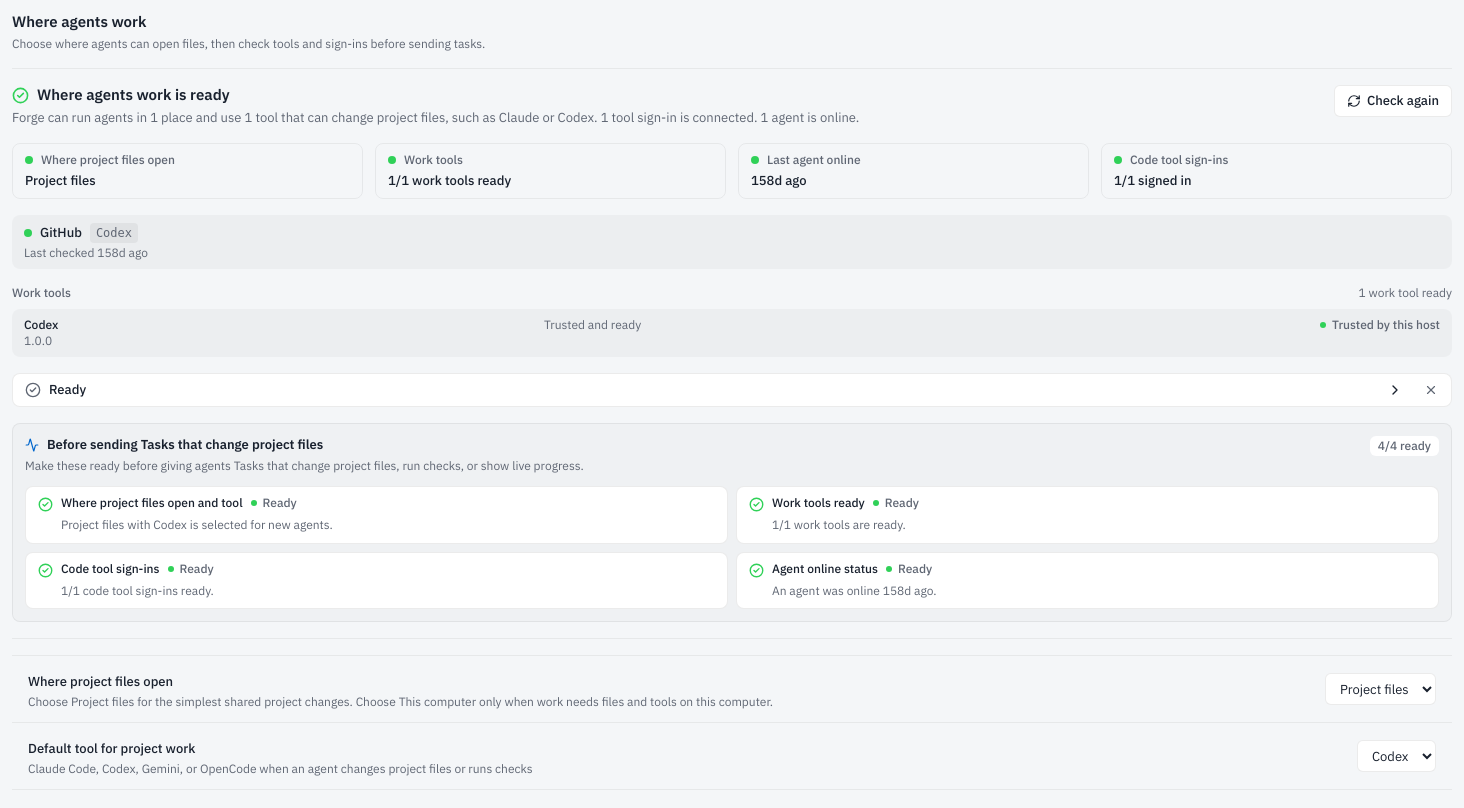
it: RuntimeSection › summarizes the ready work setup without connection actions
Expected: the button "4/4 ready" is shown, [1370,436,1439,456]
Click the button "Ready".
click(68, 390)  # box [13,374,1415,406]
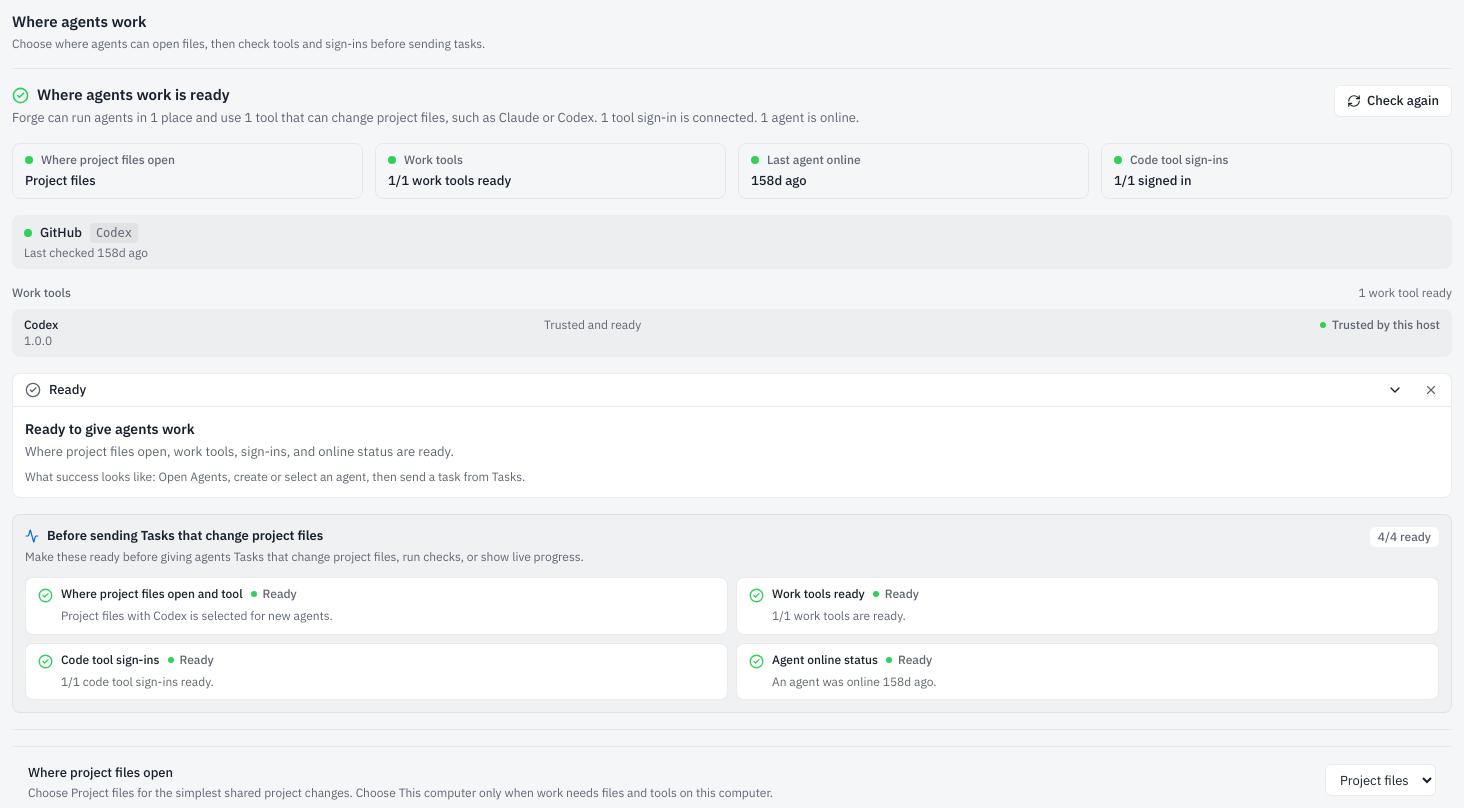
Expected: the button "Ready" is expanded, [13,374,1415,406]
Expected: the element with test id "runtime-next-step" shows "Ready to give agents work", [25,420,194,438]
Expected: the element with test id "runtime-next-step" shows "Where project files open", [25,443,454,460]
